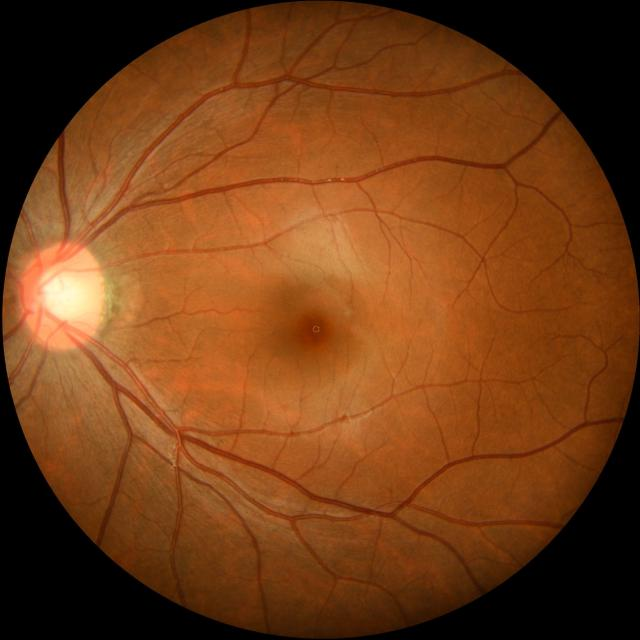OC: (40, 263, 91, 321)
OD: (19, 242, 107, 350)
